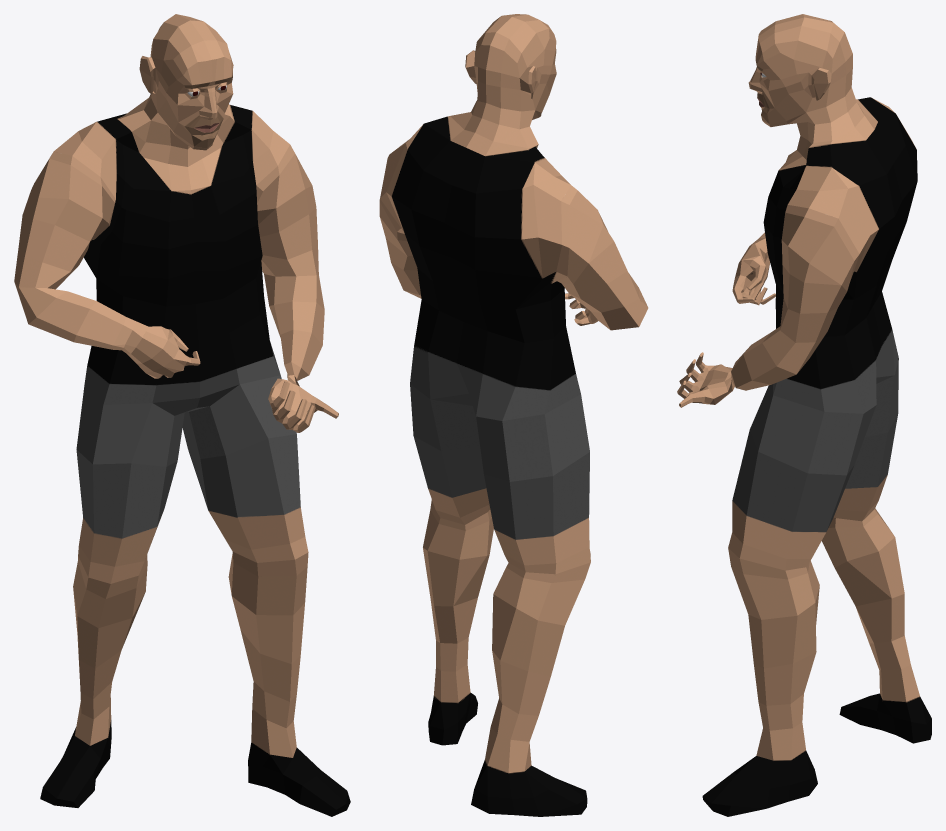
Rendered from PlayerIdle(53).obj.
3 views of the same model, side by side, from view 1: azimuth 30°, elevation 25°; view 2: azimuth 150°, elevation 25°; view 3: azimuth 270°, elevation 25° (orthographic). The views are drawn at different scales.
Visible parts, largest first — view 1: Plane002; view 2: Plane002; view 3: Plane002.
Part boxes in pixels (x1,y1,x2,y2): Plane002: [14, 14, 350, 816]; Plane002: [379, 14, 648, 816]; Plane002: [677, 14, 931, 816].
Size of the model in its own units: 672 by 1802 by 560.
